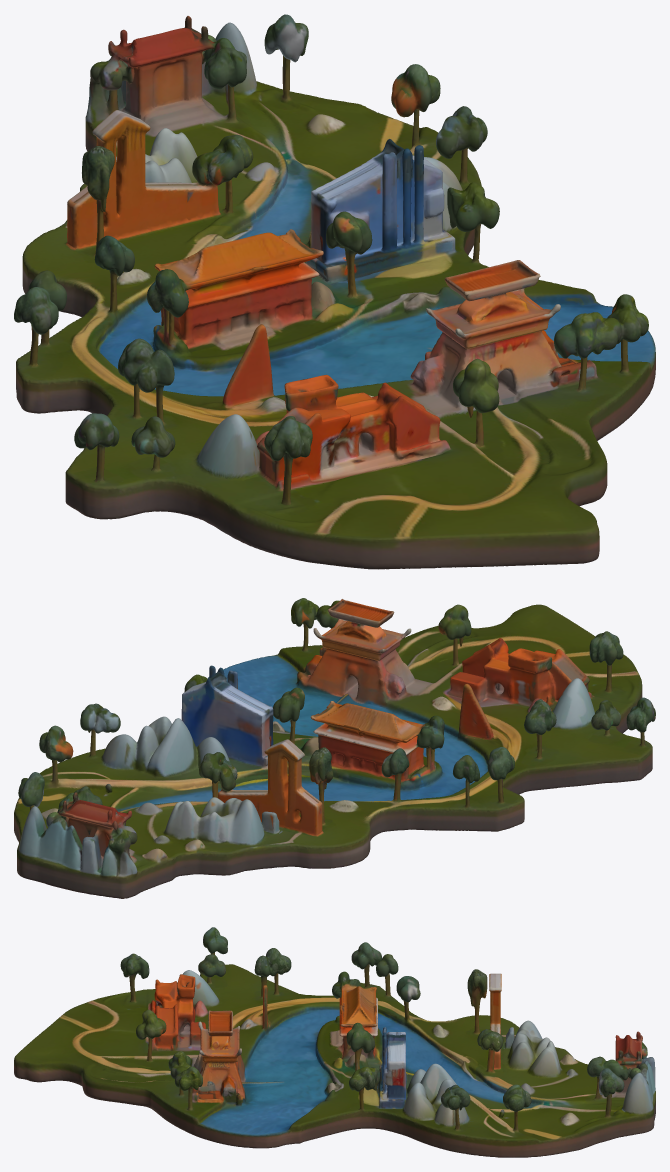
File: city map 3d model.glb
The picture shows the model from 3 angles, top to bottom: view 1: azimuth 30°, elevation 25°; view 2: azimuth 150°, elevation 25°; view 3: azimuth 270°, elevation 25°; orthographic projection. The views are drawn at different scales.
Parts seen in each view (by area): view 1: tripo_node_1fde6ba0-0486-4417-9e83-40b868ad4fb3; view 2: tripo_node_1fde6ba0-0486-4417-9e83-40b868ad4fb3; view 3: tripo_node_1fde6ba0-0486-4417-9e83-40b868ad4fb3.
Boxes of the visible parts, x1,y1,x2,y2 form: tripo_node_1fde6ba0-0486-4417-9e83-40b868ad4fb3: [14, 14, 655, 569]; tripo_node_1fde6ba0-0486-4417-9e83-40b868ad4fb3: [14, 598, 655, 898]; tripo_node_1fde6ba0-0486-4417-9e83-40b868ad4fb3: [14, 927, 655, 1157].
Size of the model in its own units: 0.6498 by 0.1517 by 1.
Materials: 1 (1 with a texture image).
